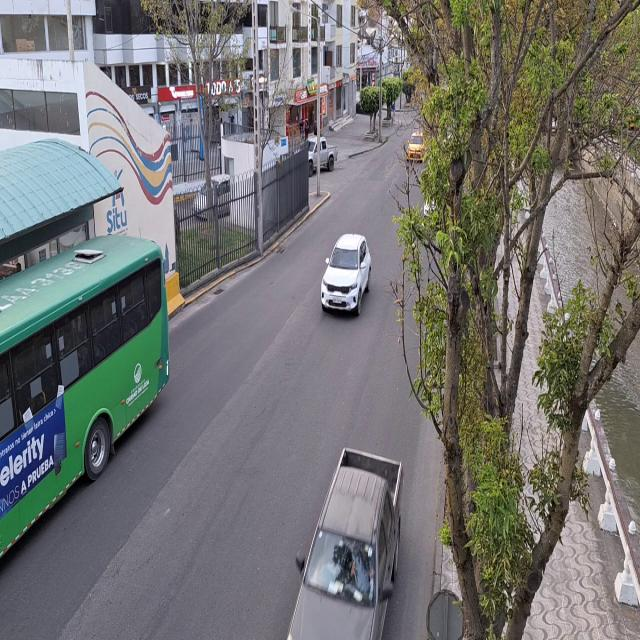BUS: (0, 236, 157, 572)
CMT: (303, 440, 405, 640)
SUV: (321, 233, 372, 316)
